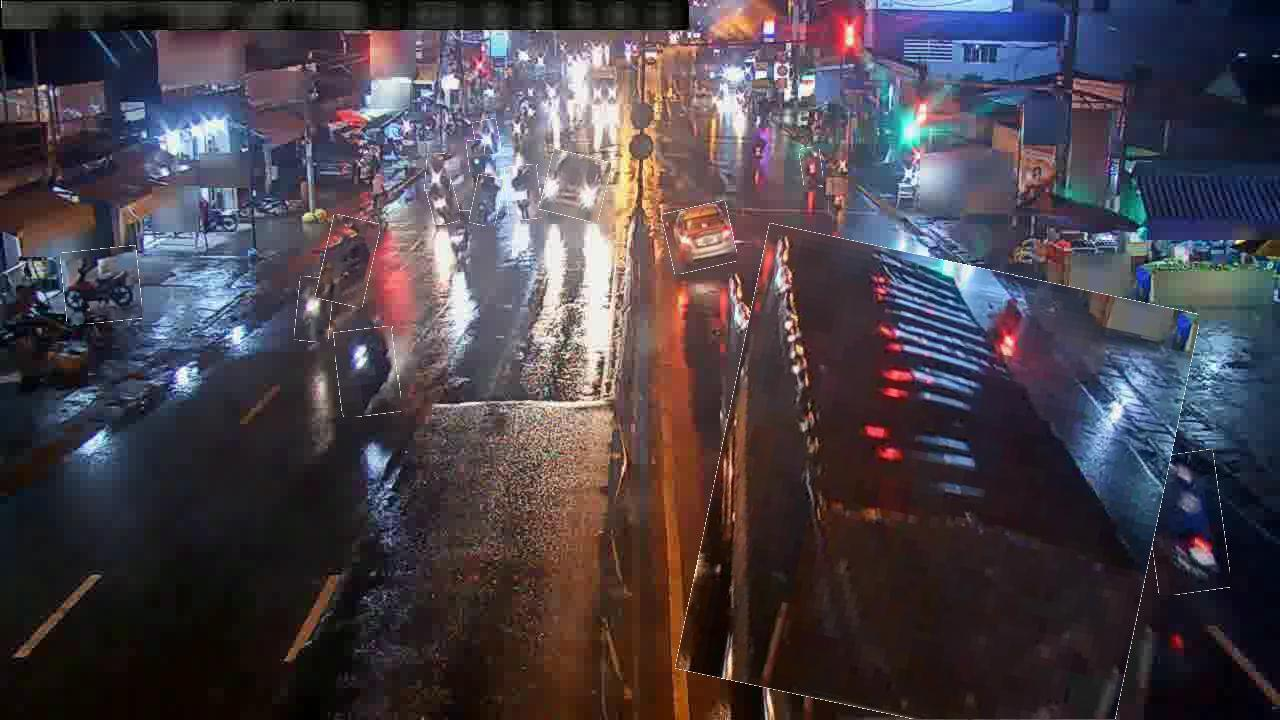car: (664, 204, 735, 272), (543, 152, 609, 220)
container: (696, 243, 1180, 719)
motorbike: (1145, 451, 1227, 594), (62, 247, 142, 324), (947, 276, 1014, 365), (336, 328, 400, 416), (320, 216, 377, 306), (296, 277, 333, 343), (506, 165, 542, 221), (446, 210, 474, 265), (472, 175, 502, 226), (428, 182, 459, 225), (425, 154, 452, 192), (474, 119, 501, 156), (828, 167, 848, 213), (801, 148, 823, 188), (467, 140, 486, 173)
